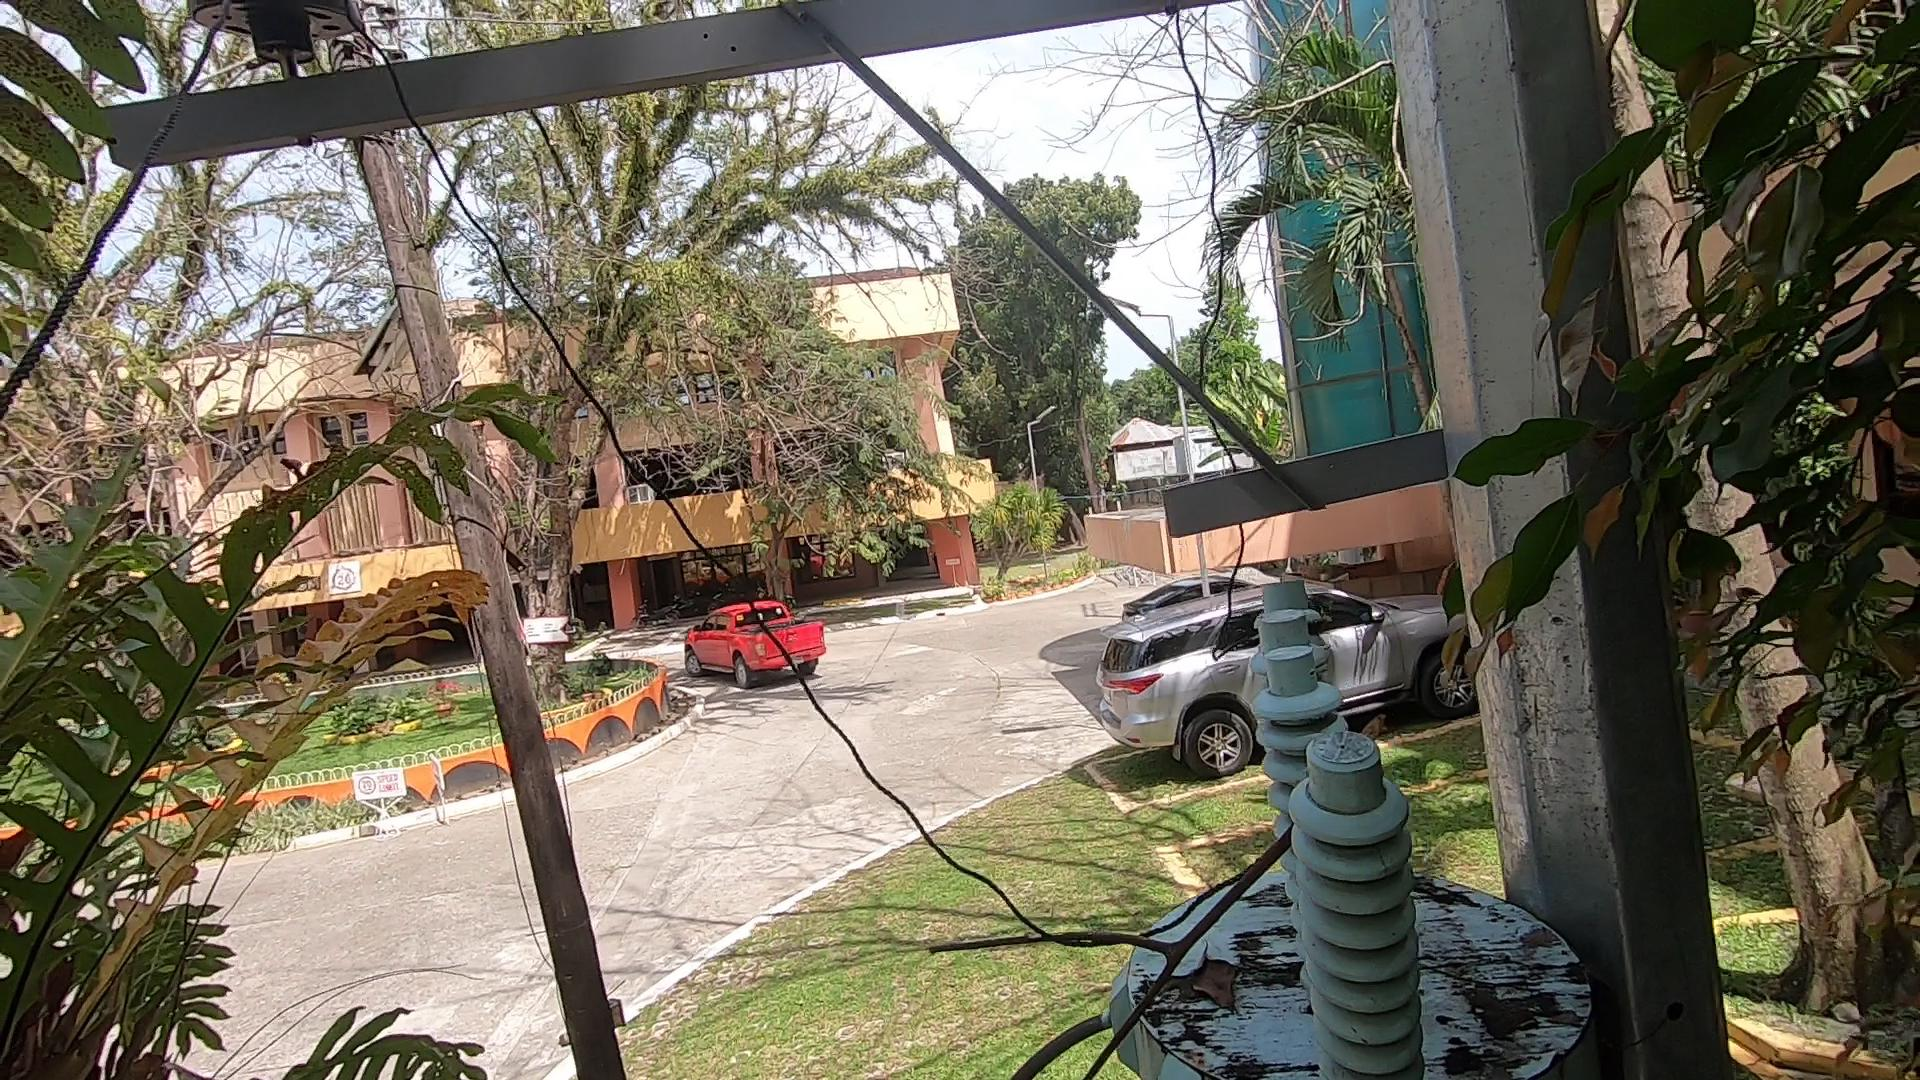leaf: (1172, 924, 1255, 1027)
tree branch: (891, 789, 1316, 1080)
